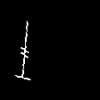treble_crochet: (15, 22, 29, 79)
